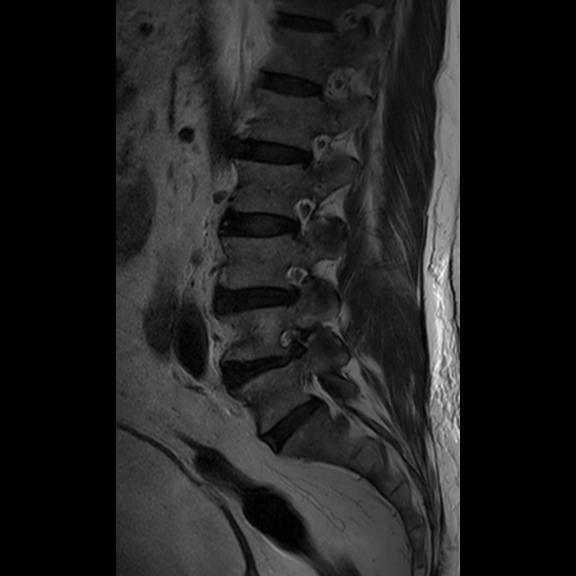RFS0: (278, 186, 320, 247)
RFS1: (274, 255, 316, 312)
RFS2: (271, 316, 321, 366)
